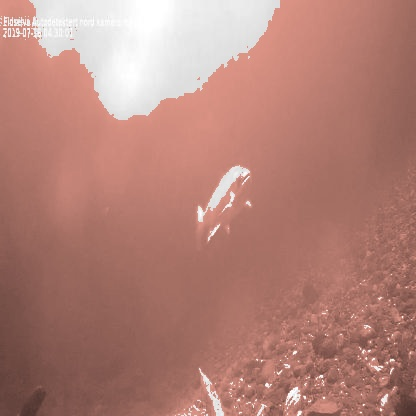salmon: (193, 159, 254, 255)
